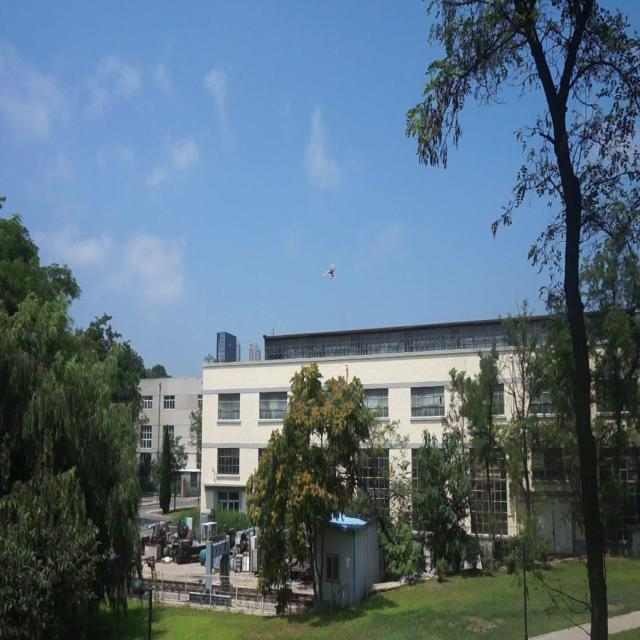drone: (324, 258, 339, 282)
